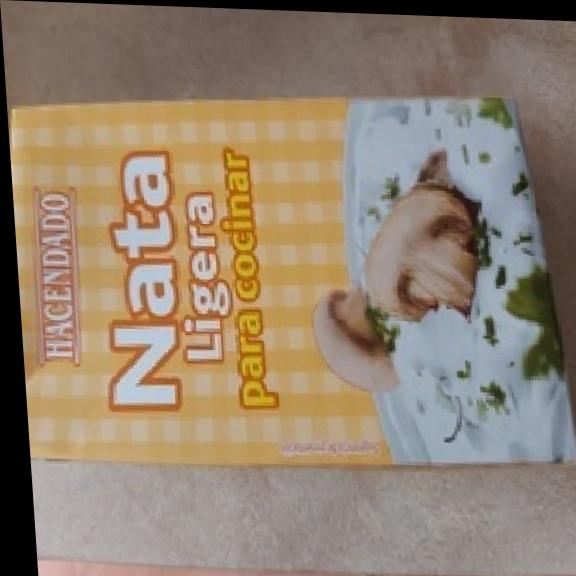Kertas: (10, 101, 574, 465)
